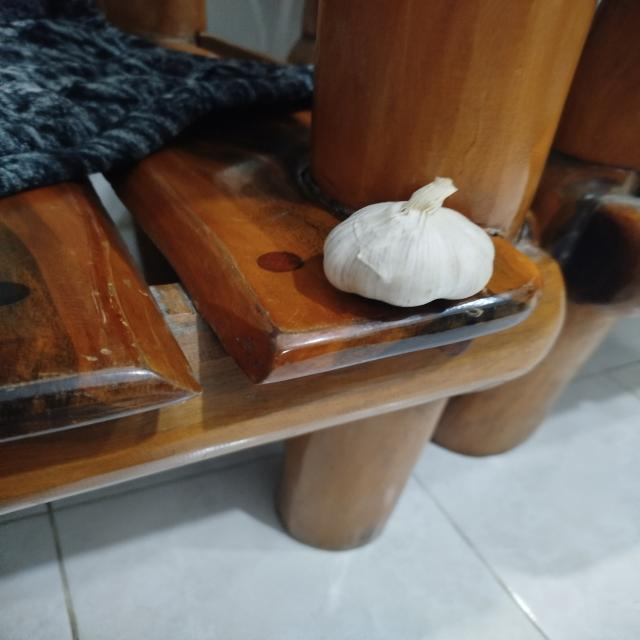garlic: (322, 176, 495, 308)
